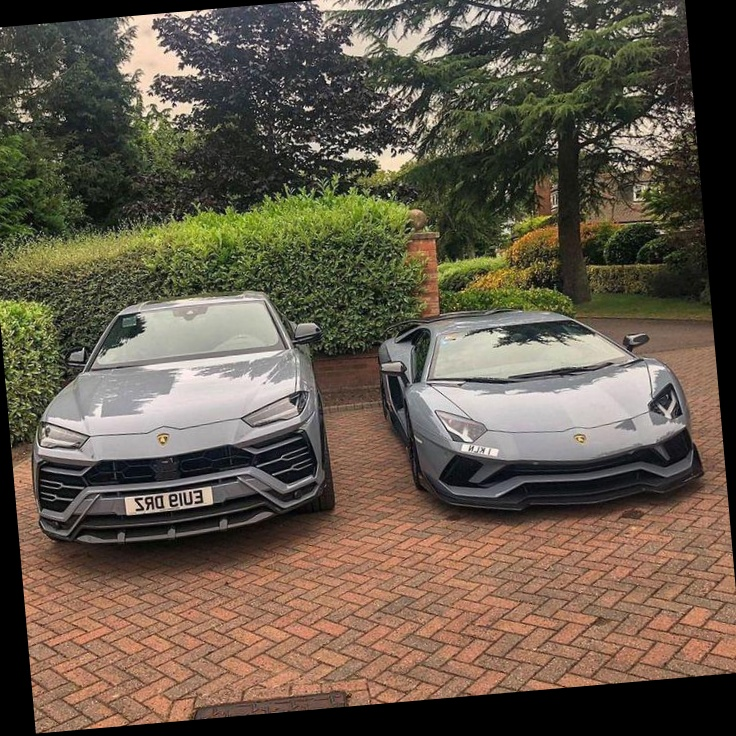car: (0, 260, 351, 623), (356, 232, 721, 574)
